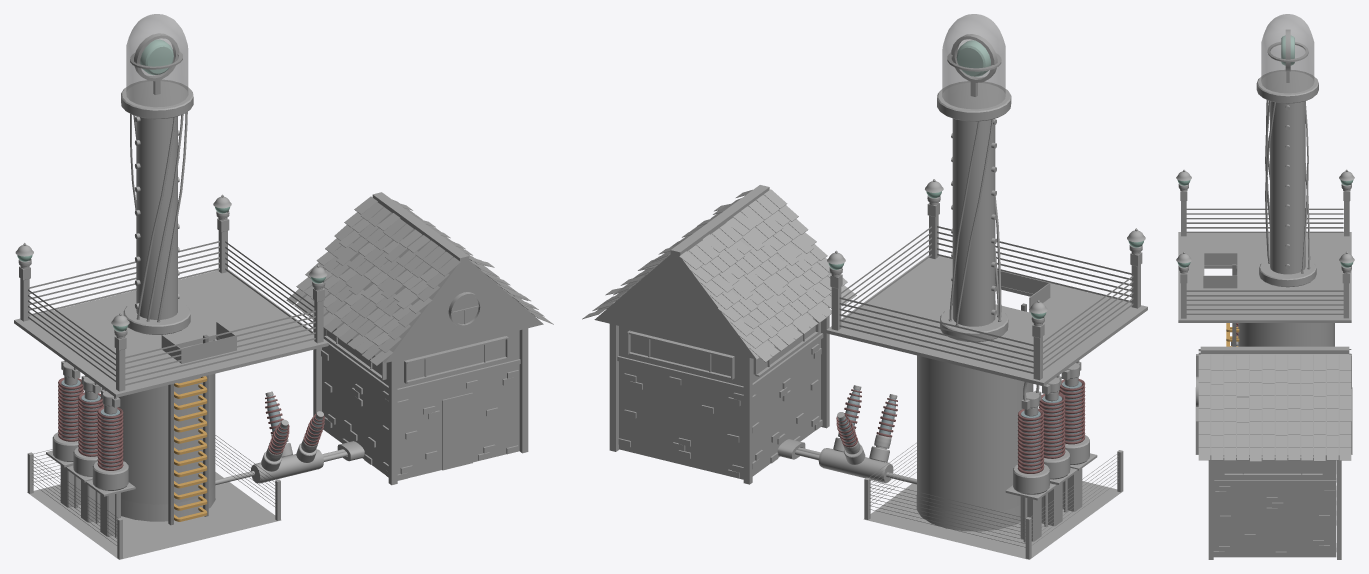
File: Env_Harbor_Building_LightHouse 1.fbx
3 views of the same model, side by side, from view 1: azimuth 30°, elevation 25°; view 2: azimuth 150°, elevation 25°; view 3: azimuth 270°, elevation 25° (orthographic). The views are drawn at different scales.
Parts seen in each view (by area): view 1: LightHouse; view 2: LightHouse; view 3: LightHouse.
Boxes of the visible parts, x1,y1,x2,y2 form: LightHouse: [14, 14, 553, 559]; LightHouse: [582, 14, 1147, 559]; LightHouse: [1176, 14, 1354, 559].
Bounding box in the file's own units: 5723 × 5823 × 2290.
